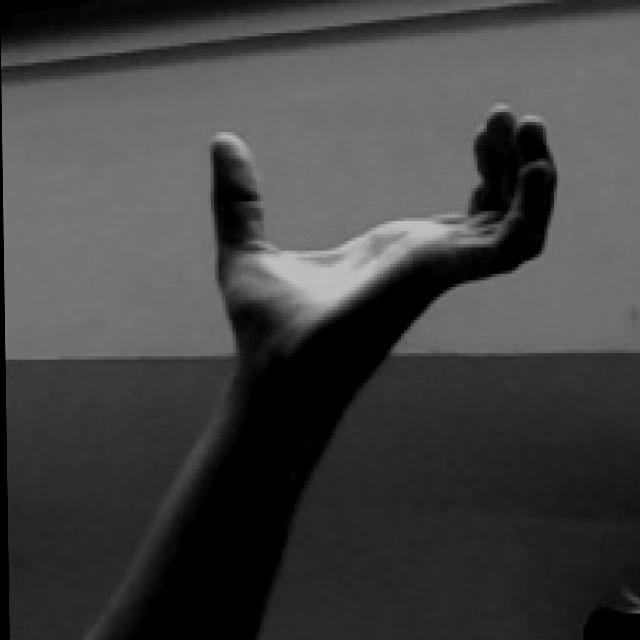space: (205, 99, 563, 353)
